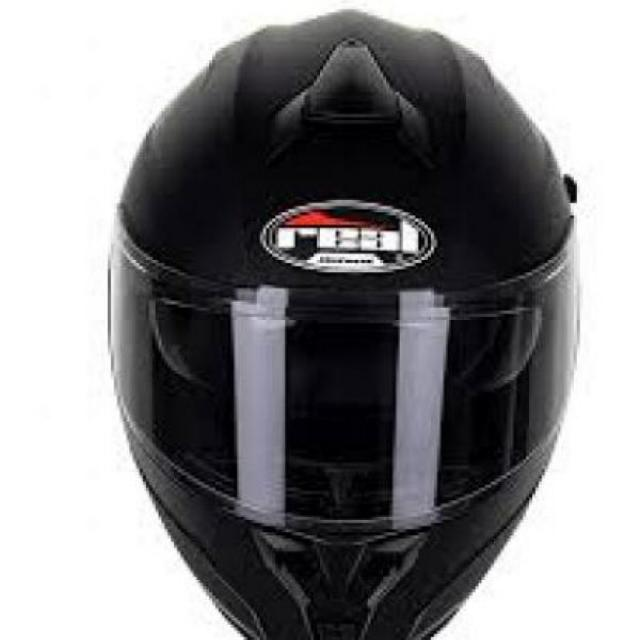Helmet: (99, 17, 556, 630)
